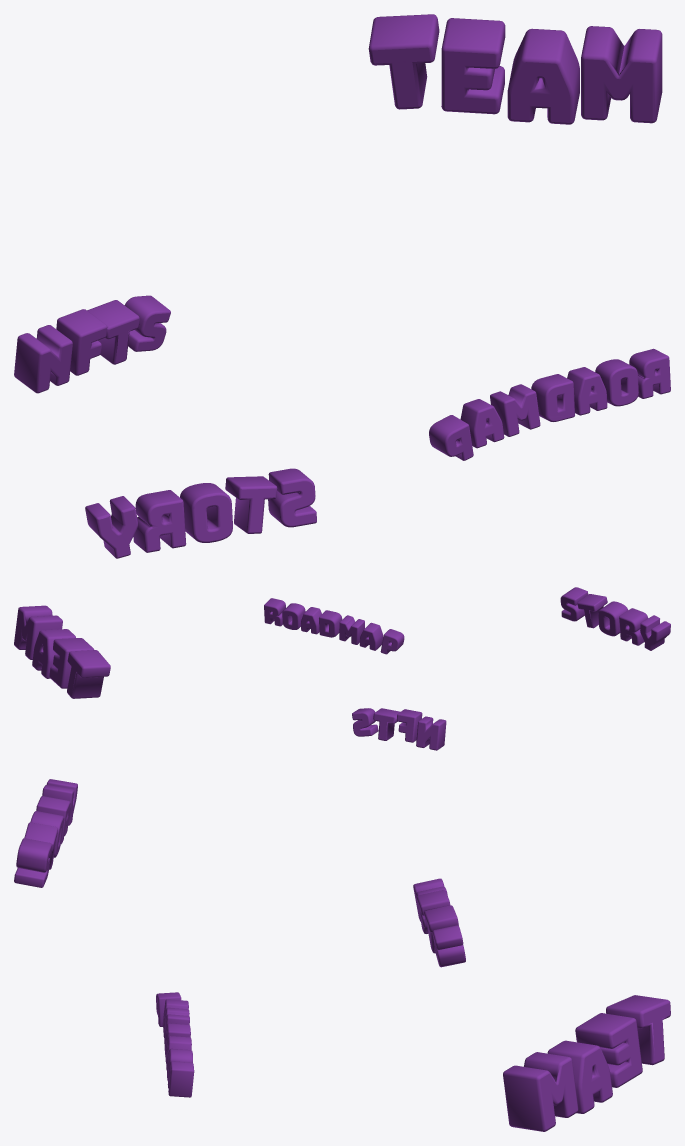
Rendered from Titles.glb.
3 renders of one model, top to bottom at view 1: azimuth 30°, elevation 25°; view 2: azimuth 150°, elevation 25°; view 3: azimuth 270°, elevation 25°, orthographic. The views are drawn at different scales.
Visible parts, largest first — view 1: TitleTeam, TitleStory, TitleRoadmap, TitleNFTs; view 2: TitleTeam, TitleStory, TitleRoadmap, TitleNFTs; view 3: TitleTeam, TitleStory, TitleRoadmap, TitleNFTs.
Part boxes in pixels (<box>): TitleTeam: <box>368,14,662,124</box>; TitleStory: <box>85,468,316,558</box>; TitleRoadmap: <box>429,348,670,460</box>; TitleNFTs: <box>14,295,170,393</box>; TitleTeam: <box>14,605,110,698</box>; TitleStory: <box>560,587,670,650</box>; TitleRoadmap: <box>264,598,404,654</box>; TitleNFTs: <box>352,708,446,750</box>; TitleTeam: <box>503,995,670,1131</box>; TitleStory: <box>14,779,77,887</box>; TitleRoadmap: <box>156,992,194,1097</box>; TitleNFTs: <box>413,878,465,967</box>.
Size of the model in its own units: 47.35 by 7.87 by 39.09.
